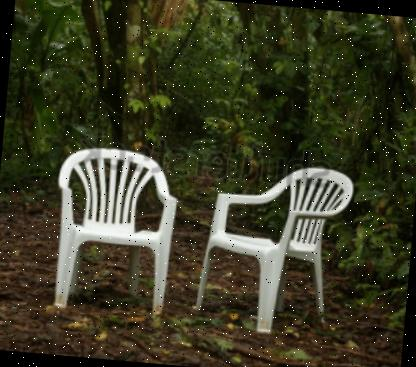chair: (182, 153, 359, 347), (40, 138, 186, 325)
